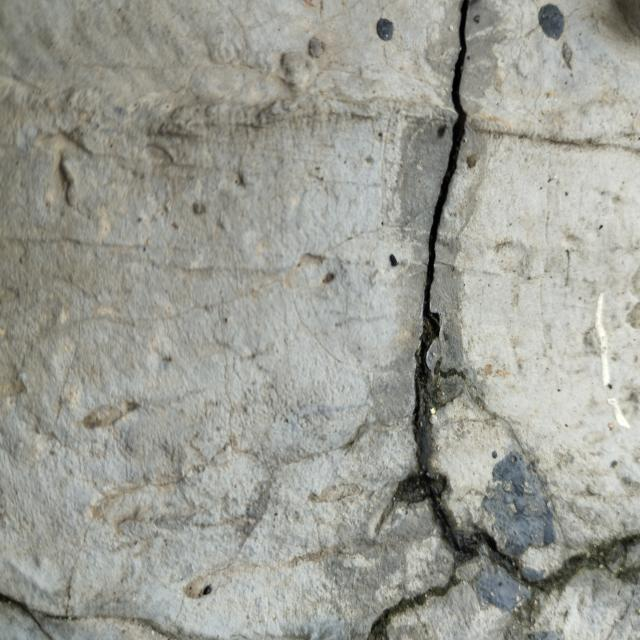branched cracks: (368, 0, 639, 639)
